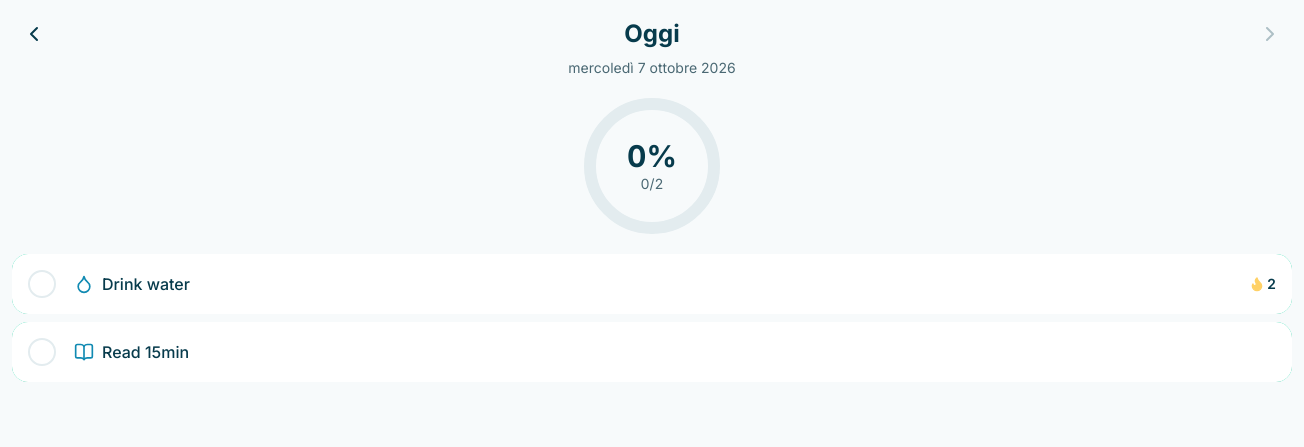
Test: HomePage › spunta → Completate, anello aggiornato, salvato; poi togli la spunta
What coordinates should you click on to do the following:
click the button named "Segna «Drink water» come fatta"
I would click on:
 (42, 284)
Its box is [18, 260, 66, 308].
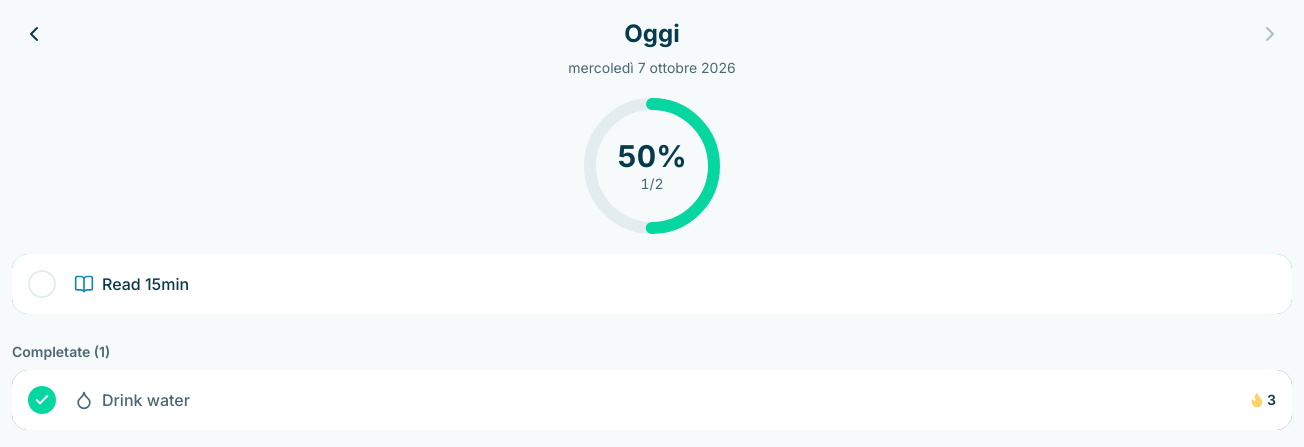
Now the heading "Completate (1)" is shown, box [12, 343, 110, 360]
Now the picture named "Completamento 50%, 1 su 2" is shown, box [584, 98, 720, 234]
Now the picture named "Streak 3 giorni" is shown, box [1249, 390, 1276, 410]
What coordinates should you click on to do the following:
click the button named "Togli la spunta a «Drink water»"
I would click on:
 (42, 400)
Its box is [18, 376, 66, 424].
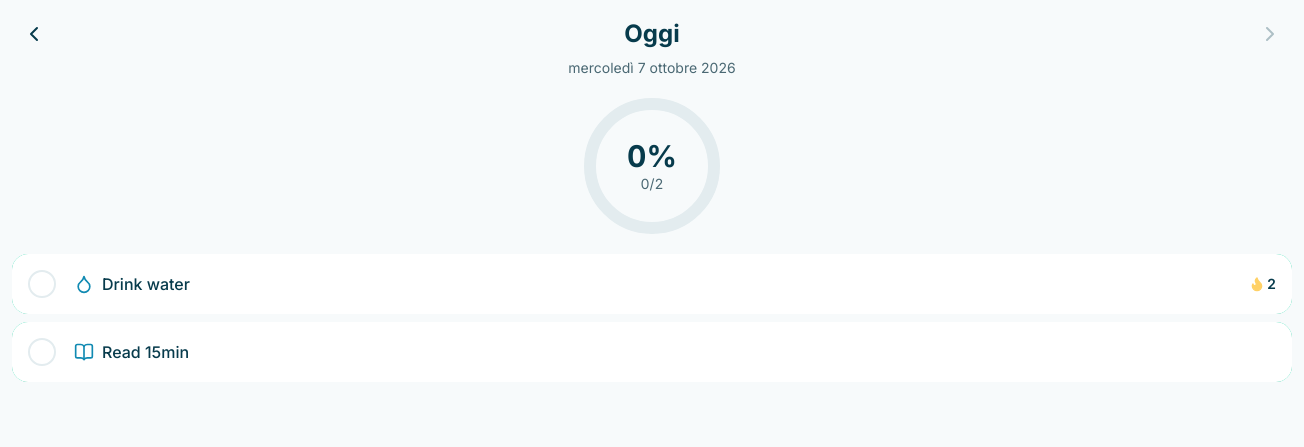
Now the heading "Completate (1)" is gone
